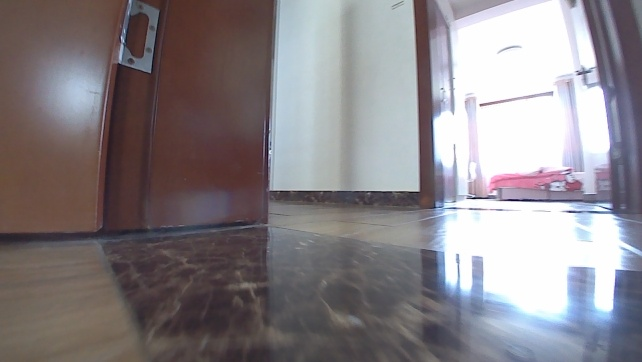bed1: (486, 165, 588, 203)
